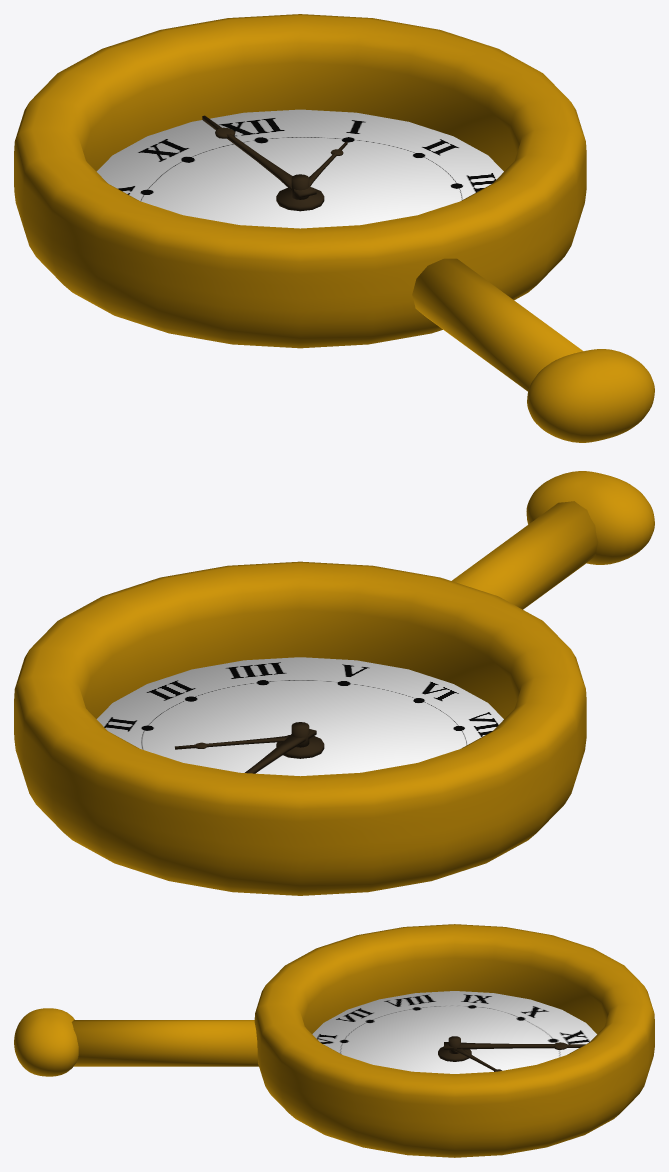
File: clockModel.glb
3 views of the same model, one above another, from view 1: azimuth 30°, elevation 25°; view 2: azimuth 150°, elevation 25°; view 3: azimuth 270°, elevation 25° (orthographic). The views are drawn at different scales.
Parts seen in each view (by area): view 1: ClockBorder, ClockFace, ClockHandle, ClockEnd, MinClockHand, ClockDial; view 2: ClockBorder, ClockFace, ClockHandle, ClockEnd, MinClockHand; view 3: ClockBorder, ClockFace, ClockHandle, ClockEnd, MinClockHand.
Boxes of the visible parts, box(x1,y1,x2,y2) form: ClockBorder: box(14, 14, 586, 348); ClockFace: box(96, 109, 503, 228); ClockHandle: box(412, 258, 583, 391); ClockEnd: box(527, 349, 654, 442); MinClockHand: box(202, 115, 316, 198); ClockDial: box(276, 187, 324, 211); ClockBorder: box(14, 561, 586, 895); ClockFace: box(96, 657, 503, 776); ClockHandle: box(452, 501, 598, 609); ClockEnd: box(526, 471, 654, 564); MinClockHand: box(245, 729, 316, 773); ClockBorder: box(254, 924, 654, 1157); ClockFace: box(312, 991, 596, 1073); ClockHandle: box(71, 1020, 258, 1066); ClockEnd: box(14, 1008, 78, 1076); MinClockHand: box(444, 1042, 585, 1050).
Size of the model in its own units: 2.54 by 0.554 by 4.07.
Materials: 4 (1 with a texture image).
